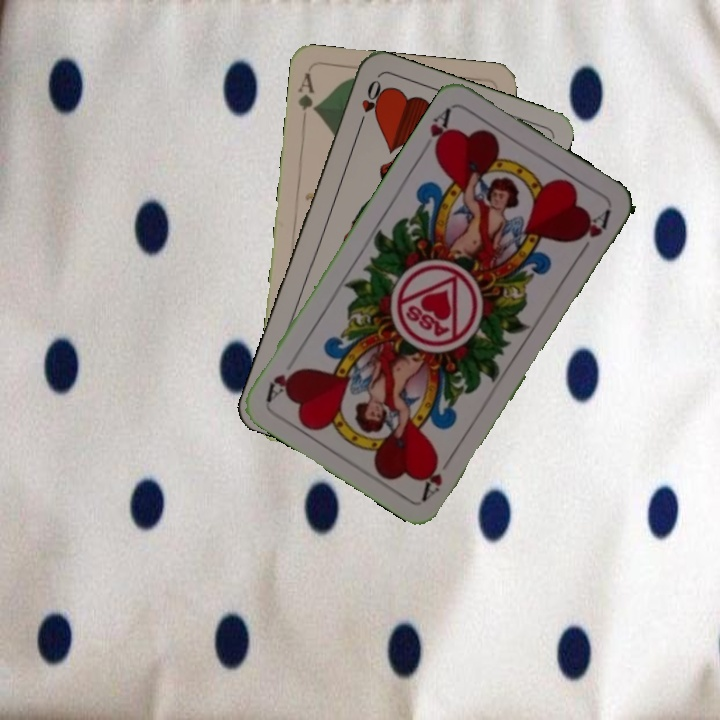GA: (294, 69, 320, 116)
HA: (418, 449, 457, 503), (425, 103, 455, 158)
HO: (354, 76, 384, 132)
